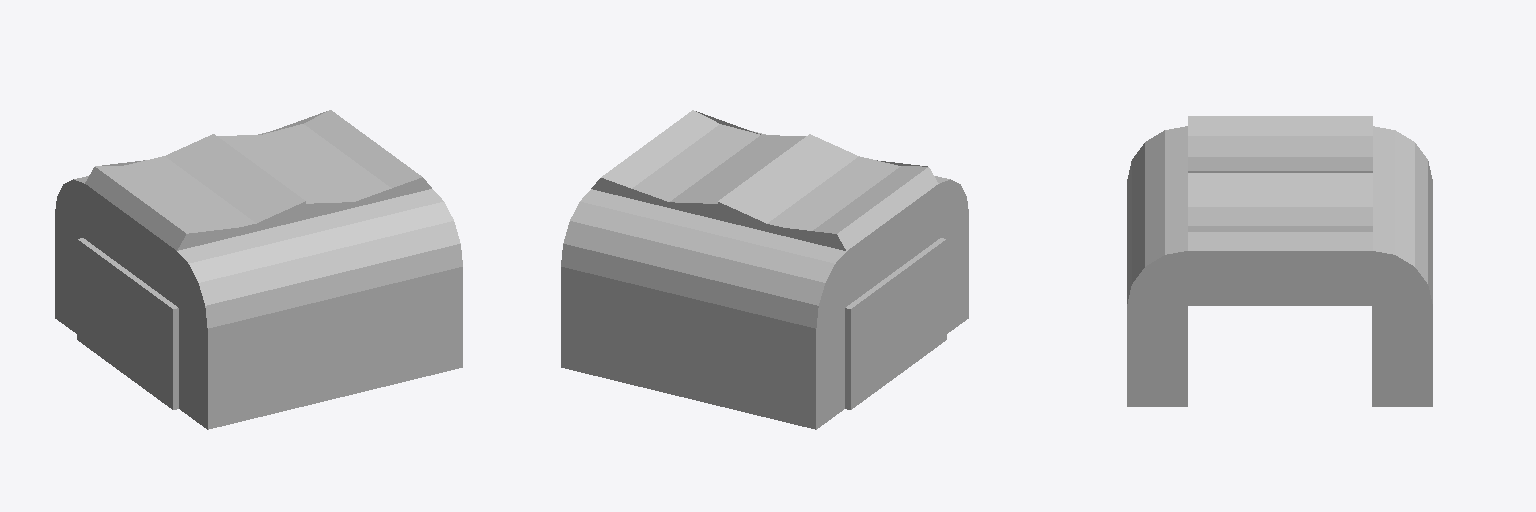
Rendered from Cave.obj.
3 views of the same model, side by side, from view 1: azimuth 30°, elevation 25°; view 2: azimuth 150°, elevation 25°; view 3: azimuth 270°, elevation 25° (orthographic).
Visible parts, largest first — view 1: pCube2, pCube3, pCube1; view 2: pCube1, pCube2, pCube3; view 3: pCube2, pCube1.
Boxes of the visible parts, x1=… form: pCube2: x1=85, y1=110, x2=462, y2=429; pCube3: x1=77, y1=238, x2=178, y2=409; pCube1: x1=55, y1=131, x2=270, y2=333; pCube1: x1=561, y1=189, x2=846, y2=429; pCube2: x1=591, y1=110, x2=968, y2=333; pCube3: x1=845, y1=238, x2=946, y2=409; pCube2: x1=1127, y1=116, x2=1372, y2=406; pCube1: x1=1372, y1=126, x2=1432, y2=406.
Size of the model in its own units: 4.93 by 3.15 by 5.